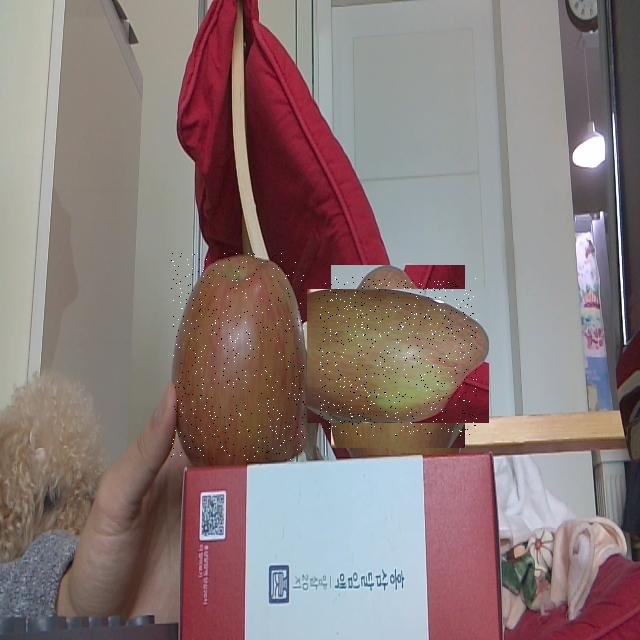apple: (171, 253, 305, 460), (319, 277, 477, 436)
